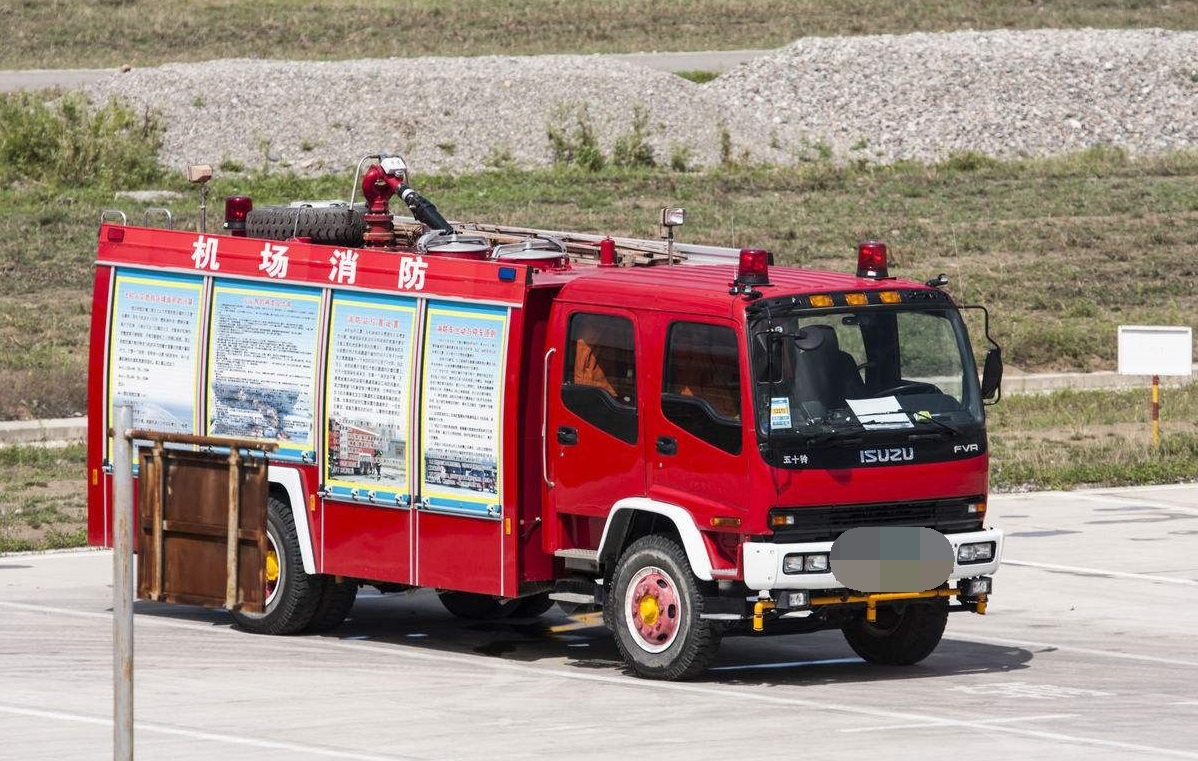fire engine: (53, 173, 1022, 661)
